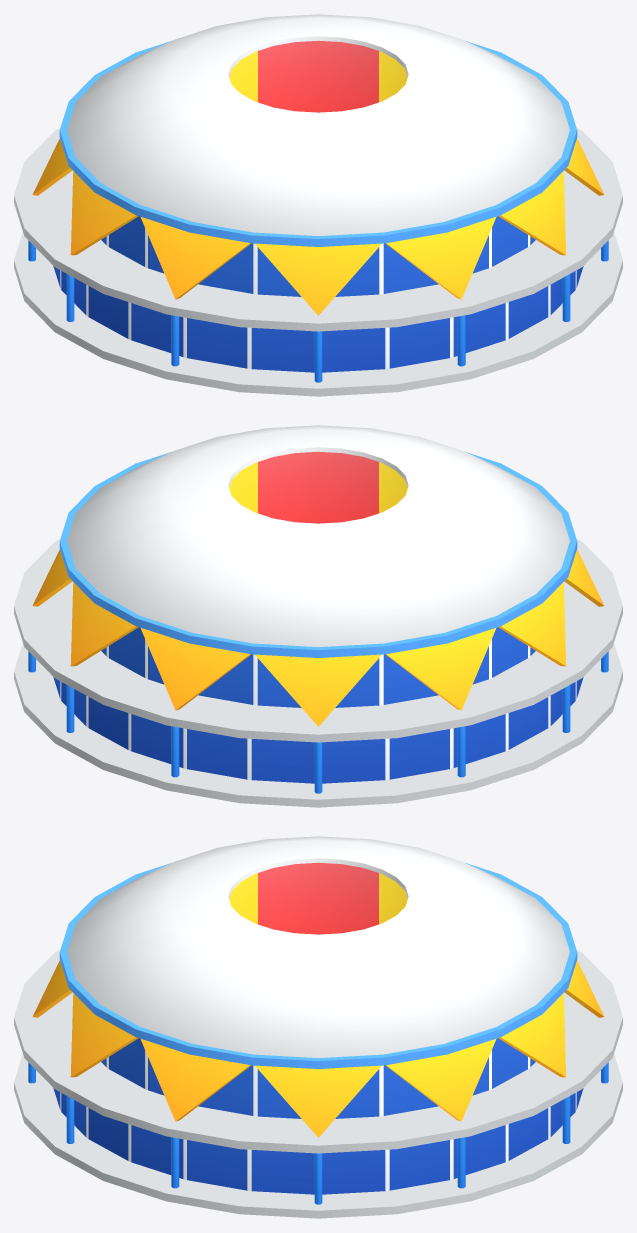
Rendered from Stadium_08.glb.
3 views of the same model, one above another, from view 1: azimuth 30°, elevation 25°; view 2: azimuth 150°, elevation 25°; view 3: azimuth 270°, elevation 25° (orthographic).
Visible parts, largest first — view 1: Stadium_08; view 2: Stadium_08; view 3: Stadium_08.
Boxes of the visible parts, x1=… form: Stadium_08: x1=14, y1=14, x2=622, y2=396; Stadium_08: x1=14, y1=425, x2=622, y2=807; Stadium_08: x1=14, y1=836, x2=622, y2=1218.
Bounding box in the file's own units: 39.39 × 13.81 × 39.39.
1 material, 1 textured.
